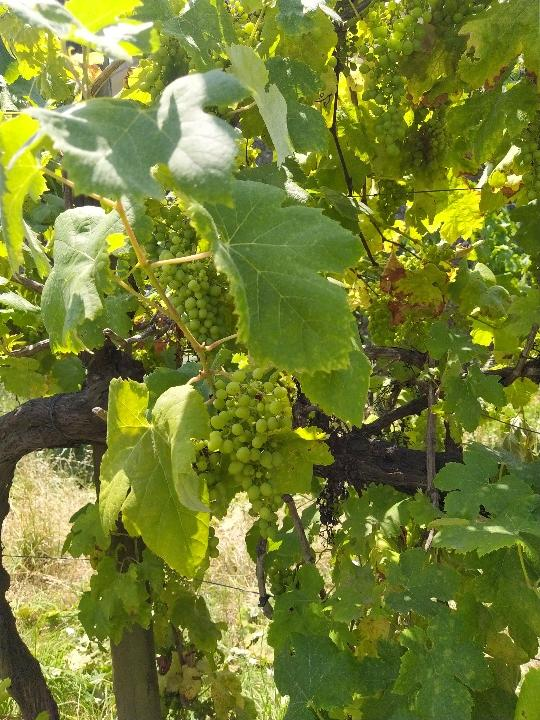grape: (206, 365, 293, 543), (142, 202, 233, 354)
